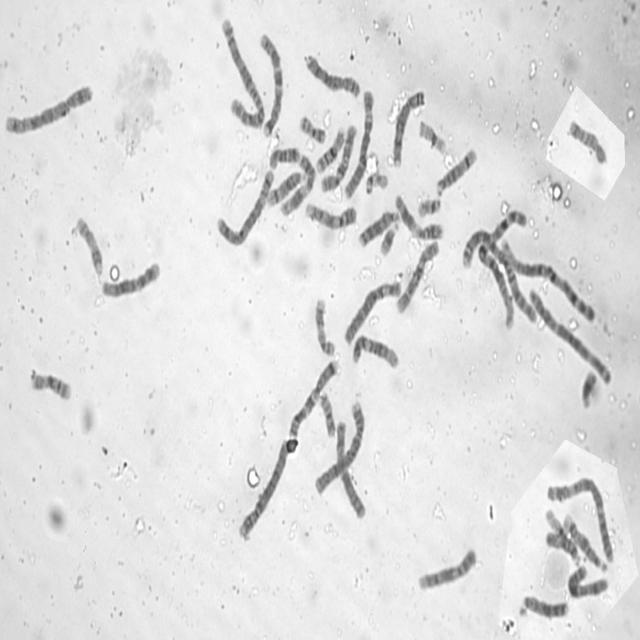A1: (499, 236, 597, 325), (475, 206, 530, 332)
A2: (460, 227, 538, 326), (218, 13, 266, 131)
A3: (526, 284, 614, 387), (544, 473, 615, 568)
B4: (236, 433, 298, 543), (312, 397, 366, 498)
B5: (2, 80, 95, 137), (214, 165, 276, 248)
C10: (394, 236, 441, 316), (318, 121, 358, 195)
C11: (277, 150, 316, 219), (392, 191, 444, 242)
C12: (99, 258, 161, 300), (350, 331, 400, 372)
C6: (342, 277, 403, 347), (342, 85, 376, 202)
C7: (286, 355, 339, 440), (257, 29, 284, 140)
C8: (303, 50, 362, 100), (391, 86, 426, 169)
C9: (415, 544, 478, 592), (303, 198, 358, 232)
D13: (356, 206, 400, 249), (517, 592, 569, 622)
D14: (434, 144, 478, 198), (266, 167, 308, 208)
D15: (562, 512, 608, 572), (543, 526, 582, 566)
E16: (313, 124, 347, 176), (28, 365, 73, 403)
E17: (74, 213, 104, 277), (313, 294, 337, 357)
E18: (566, 117, 608, 167), (267, 143, 301, 170)
F19: (417, 117, 447, 156), (544, 508, 574, 538)
F20: (317, 388, 337, 440), (297, 111, 327, 145)
G21: (578, 366, 599, 411), (378, 216, 400, 258)
G22: (363, 168, 389, 196), (416, 195, 442, 219)
X: (566, 561, 610, 601)
